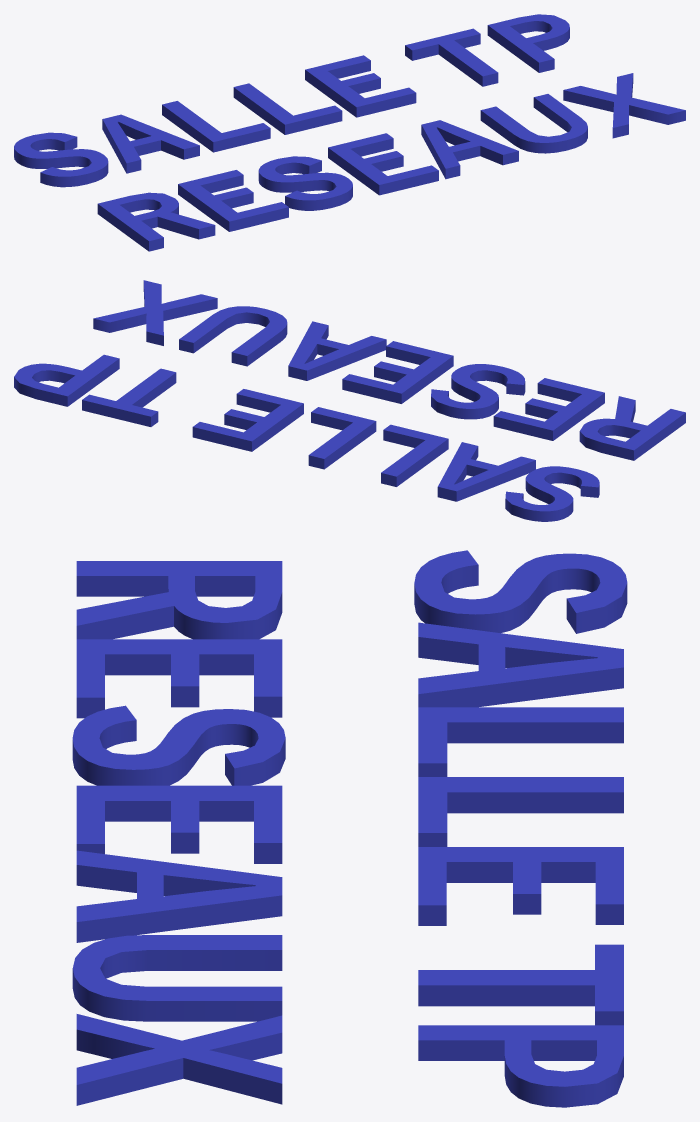
Rendered from salletpreseaux.fbx.
3 views of the same model, one above another, from view 1: azimuth 30°, elevation 25°; view 2: azimuth 150°, elevation 25°; view 3: azimuth 270°, elevation 25° (orthographic). The views are drawn at different scales.
Parts seen in each view (by area): view 1: node_id37 (×2); view 2: node_id37 (×2); view 3: node_id37 (×2).
Part boxes in pixels (left/top/right/bottom): node_id37 (×2): left=14, top=14, right=685, bottom=251; node_id37 (×2): left=14, top=280, right=685, bottom=521; node_id37 (×2): left=72, top=550, right=627, bottom=1107.
Bounding box in the file's own units: 1.04 × 0.0188 × 0.4526.
